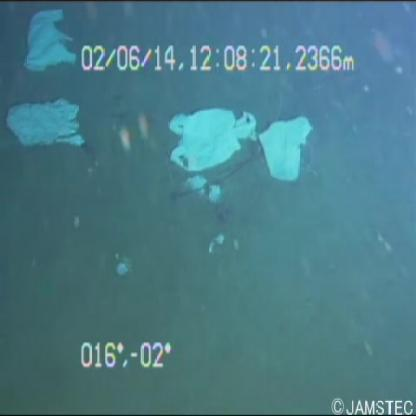Rác: (164, 91, 262, 179), (8, 89, 86, 162), (253, 107, 316, 188), (23, 5, 83, 80)
